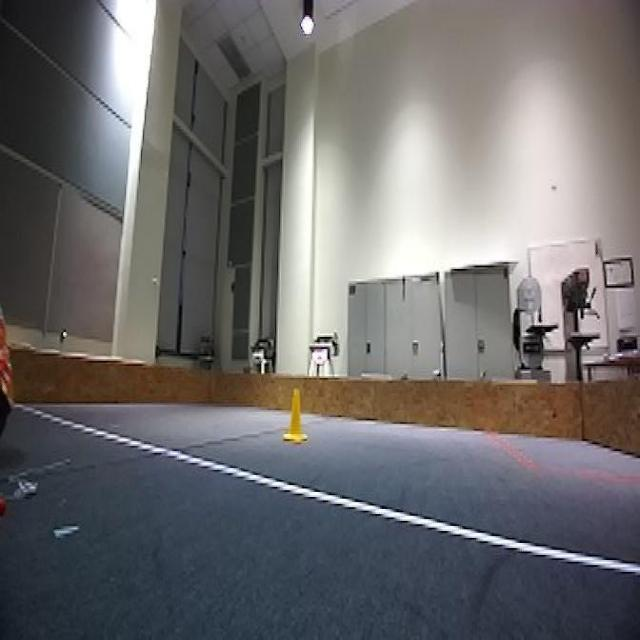frc_cone: (284, 390, 309, 444)
